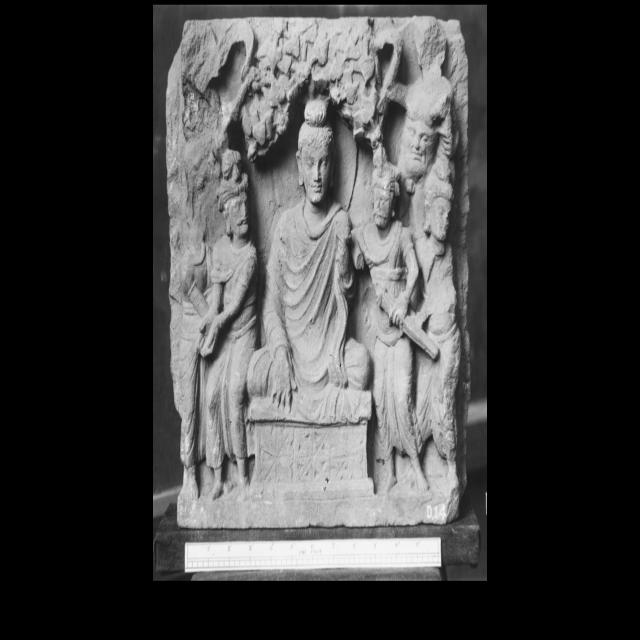buddha-sitting: (247, 102, 374, 501)
